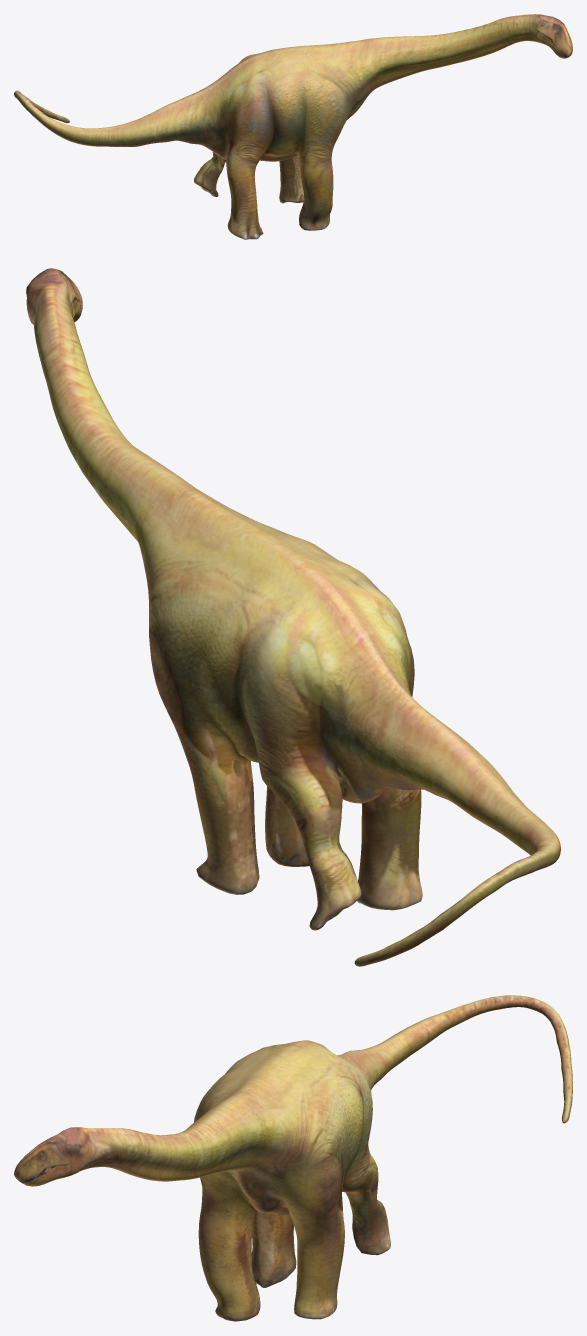
The picture shows the model from 3 angles, top to bottom: view 1: azimuth 30°, elevation 25°; view 2: azimuth 150°, elevation 25°; view 3: azimuth 270°, elevation 25°; orthographic projection. The views are drawn at different scales.
Parts seen in each view (by area): view 1: Mesh0.001; view 2: Mesh0.001; view 3: Mesh0.001.
Part boxes in pixels (x1,y1,x2,y2): Mesh0.001: (14,14,572,239); Mesh0.001: (26,268,560,966); Mesh0.001: (14,995,572,1321).
Bounding box in the file's own units: 0.1135 × 0.0582 × 0.0918.
1 material, 1 textured.
